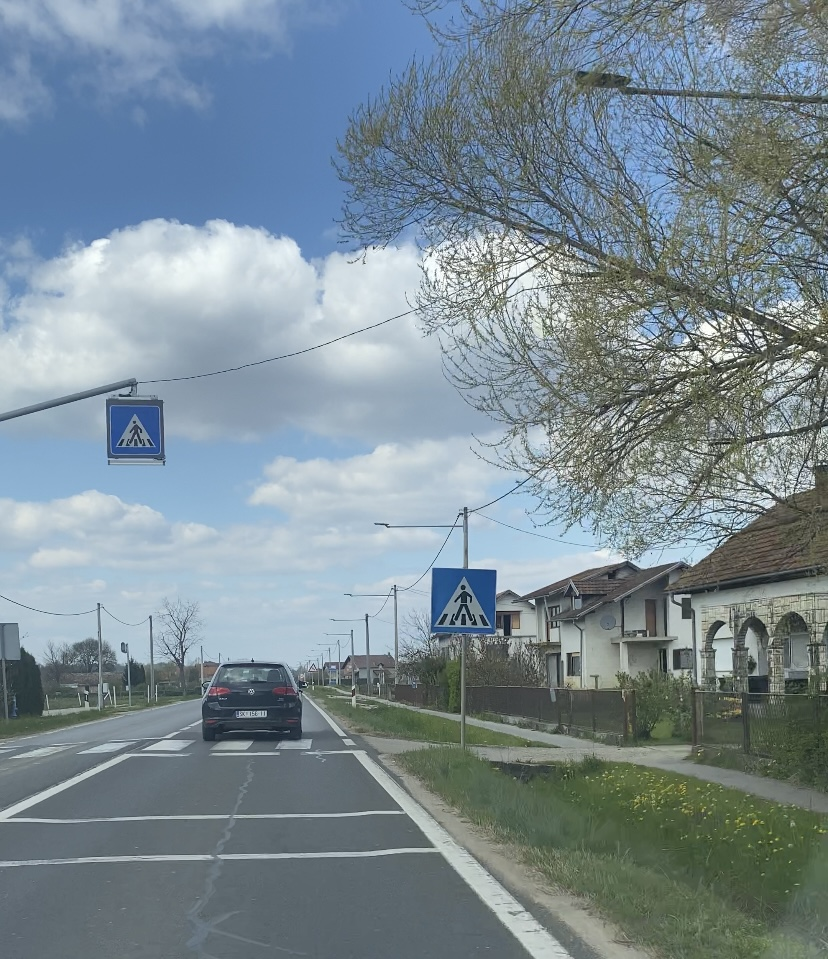Pješački prijelaz: (430, 567, 497, 633), (110, 405, 162, 454)
